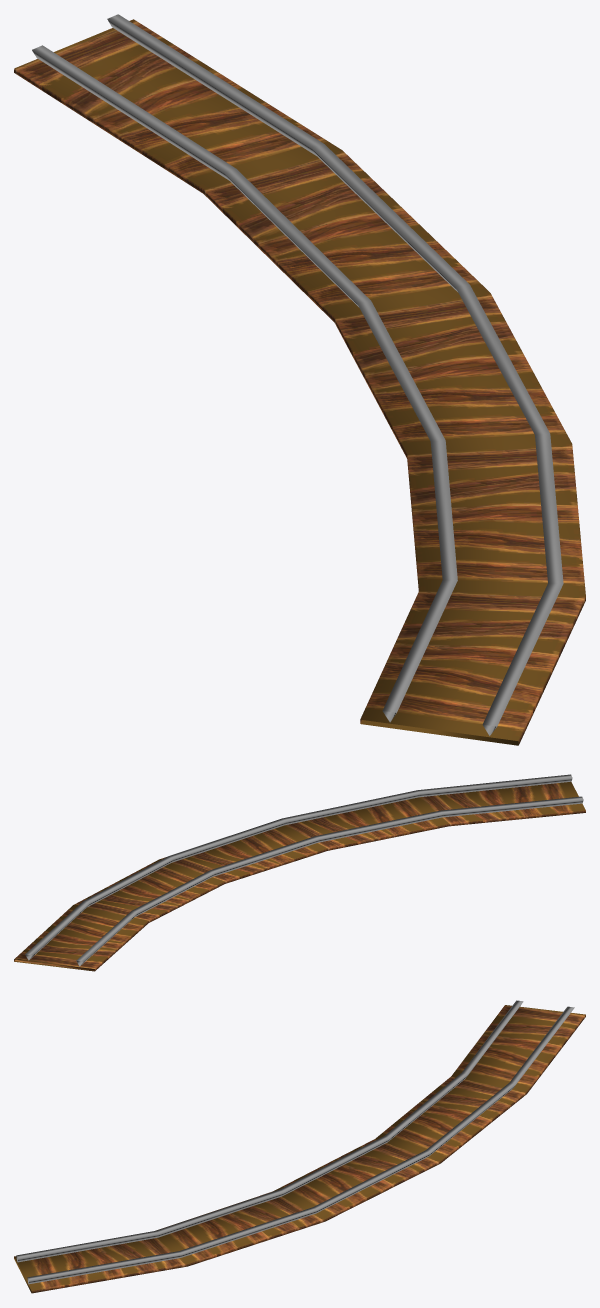
File: SWORDLIGHT20_MAIN1RAILS1NW.fbx
3 renders of one model, top to bottom at view 1: azimuth 30°, elevation 25°; view 2: azimuth 150°, elevation 25°; view 3: azimuth 330°, elevation 25°, orthographic. The views are drawn at different scales.
Parts seen in each view (by area): view 1: SWORDLIGHT20_MAIN1RAILS1NW; view 2: SWORDLIGHT20_MAIN1RAILS1NW; view 3: SWORDLIGHT20_MAIN1RAILS1NW.
Part boxes in pixels (box(x1,y1,x2,y2)): SWORDLIGHT20_MAIN1RAILS1NW: box(14, 14, 585, 745); SWORDLIGHT20_MAIN1RAILS1NW: box(14, 774, 585, 971); SWORDLIGHT20_MAIN1RAILS1NW: box(14, 1000, 585, 1293).
Bounding box in the file's own units: 56265 × 11712 × 144849.
2 materials, 2 textured.
